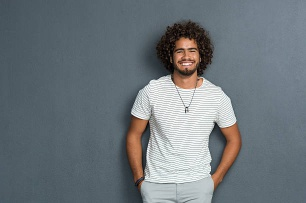male: (158, 22, 211, 79)
